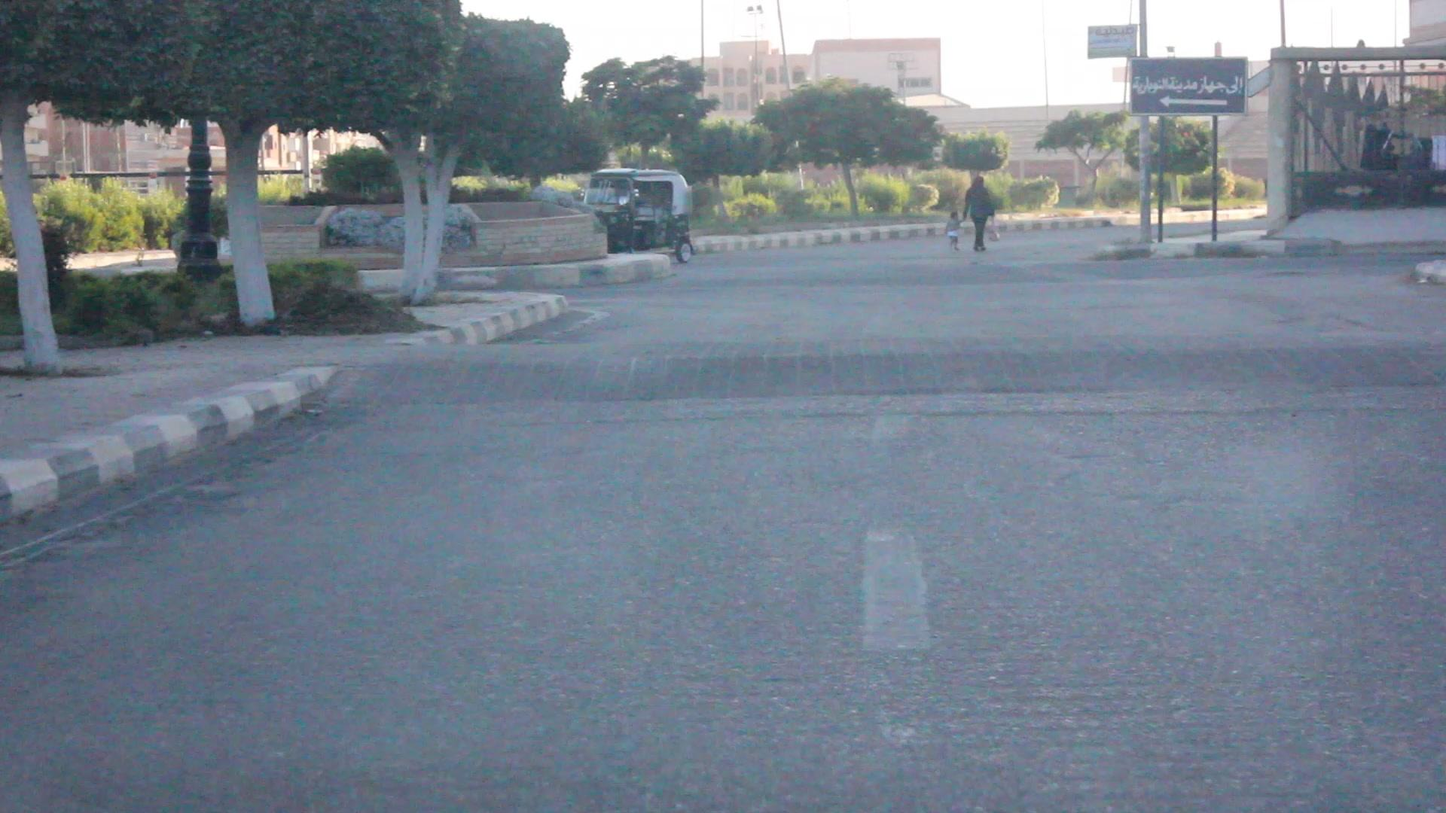Bump: (386, 327, 1446, 427)
